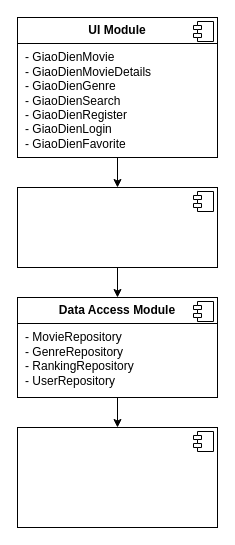
Some shapes in this 235 by 545 pixel diagram are drawn without their labels. The centre of each missing label's shape, as x and y in pixels:
"Business Logic Module - MovieController - GenreController - UserController" belongs at [117,227].
"Database - Movie - Genre - Ranking - User" belongs at [117,477].
